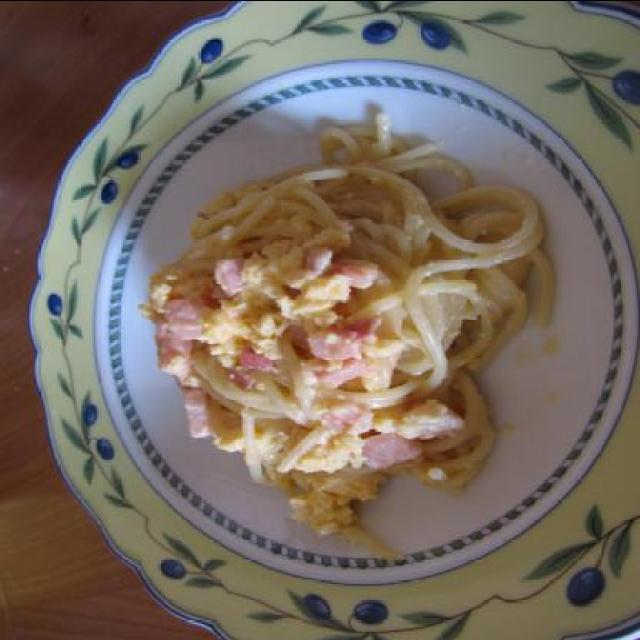Pasta with carbonara sauce: (102, 54, 560, 578)
